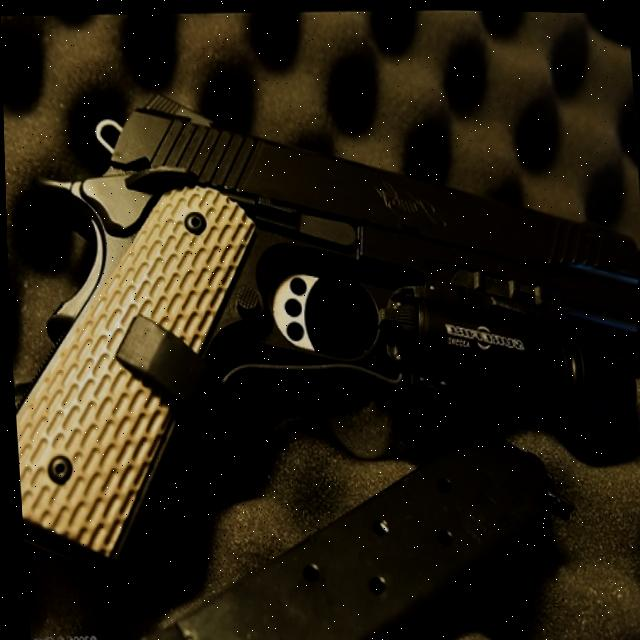pistol: (2, 77, 640, 572)
